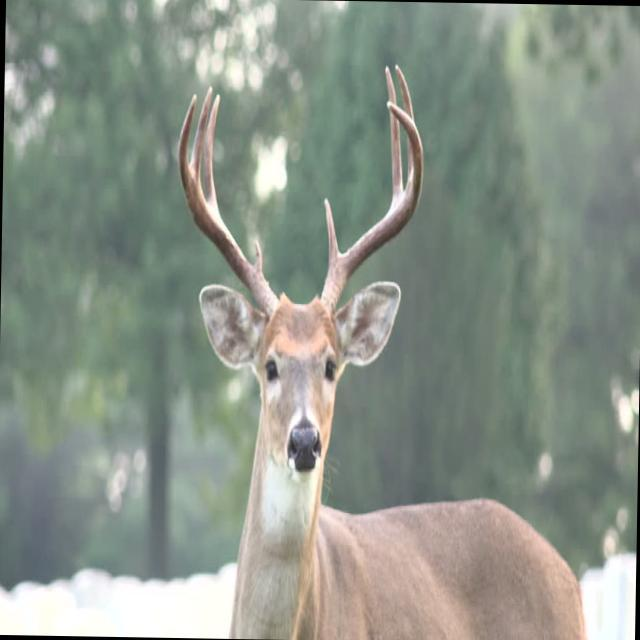L-F: (320, 100, 424, 313)
L-G1: (323, 196, 340, 269)
R-F: (177, 92, 279, 321)
R-G1: (253, 239, 262, 273)
R-G2: (203, 92, 220, 205)
R-G3: (190, 84, 213, 180)
